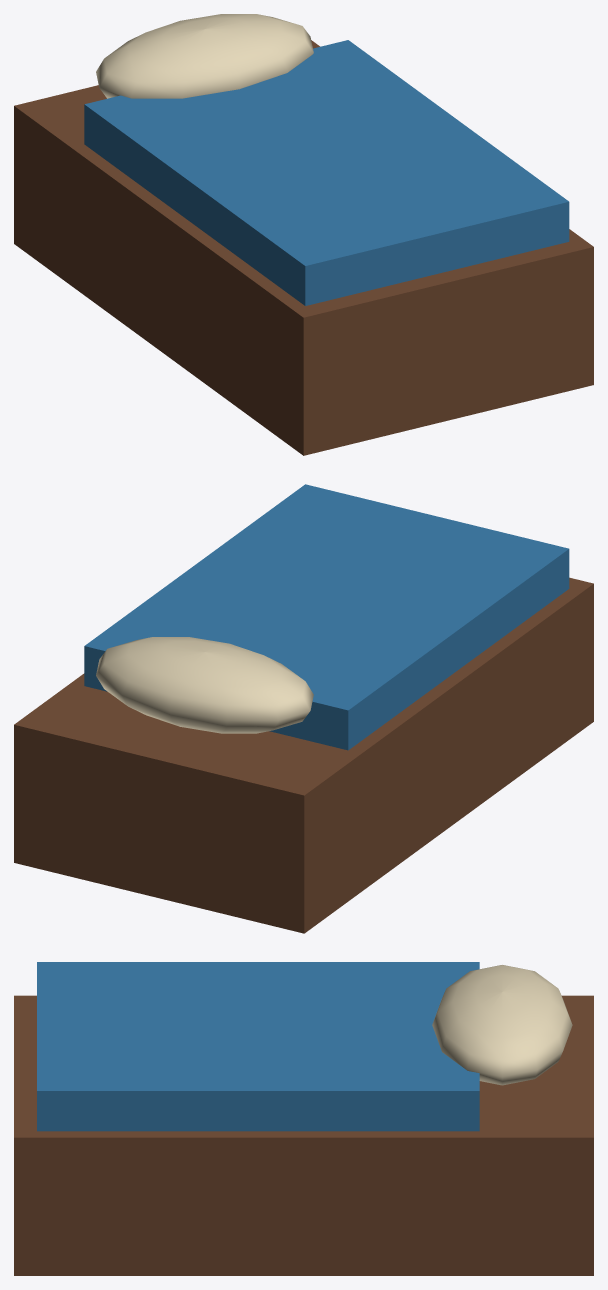
Rendered from elin_bed.glb.
3 views of the same model, one above another, from view 1: azimuth 30°, elevation 25°; view 2: azimuth 150°, elevation 25°; view 3: azimuth 270°, elevation 25° (orthographic).
Parts seen in each view (by area): view 1: frame, blanket, pillow; view 2: frame, blanket, pillow; view 3: frame, blanket, pillow.
Boxes of the visible parts, x1=… form: frame: x1=14, y1=40, x2=593, y2=455; blanket: x1=84, y1=40, x2=569, y2=305; pillow: x1=96, y1=14, x2=313, y2=98; frame: x1=14, y1=577, x2=593, y2=933; blanket: x1=84, y1=484, x2=569, y2=750; pillow: x1=96, y1=637, x2=313, y2=733; frame: x1=14, y1=995, x2=593, y2=1275; blanket: x1=37, y1=962, x2=479, y2=1131; pillow: x1=432, y1=965, x2=572, y2=1085.
Size of the model in its own units: 1.1 by 0.77 by 1.9.
